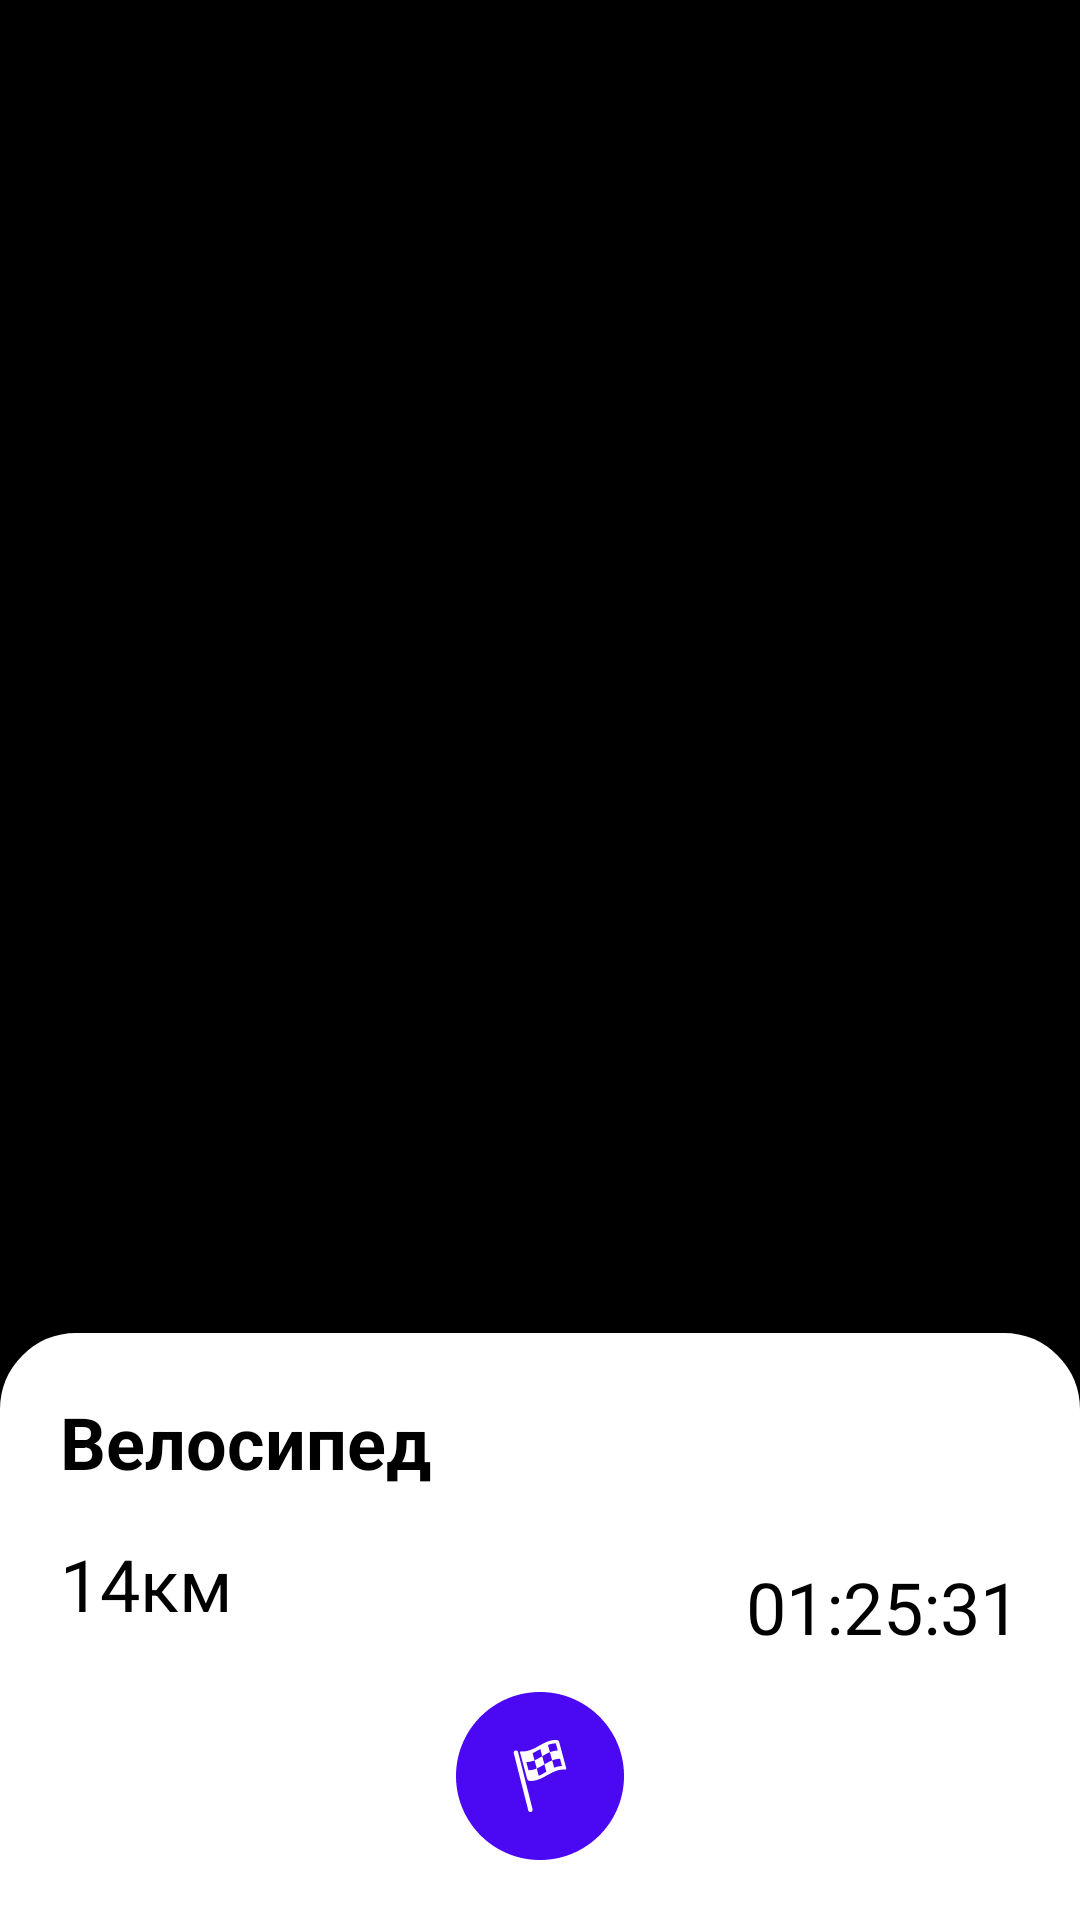

Point at icon controls on the screen. Image size 1080*1920, points as point (x, y).
flag: point (540, 1776)
